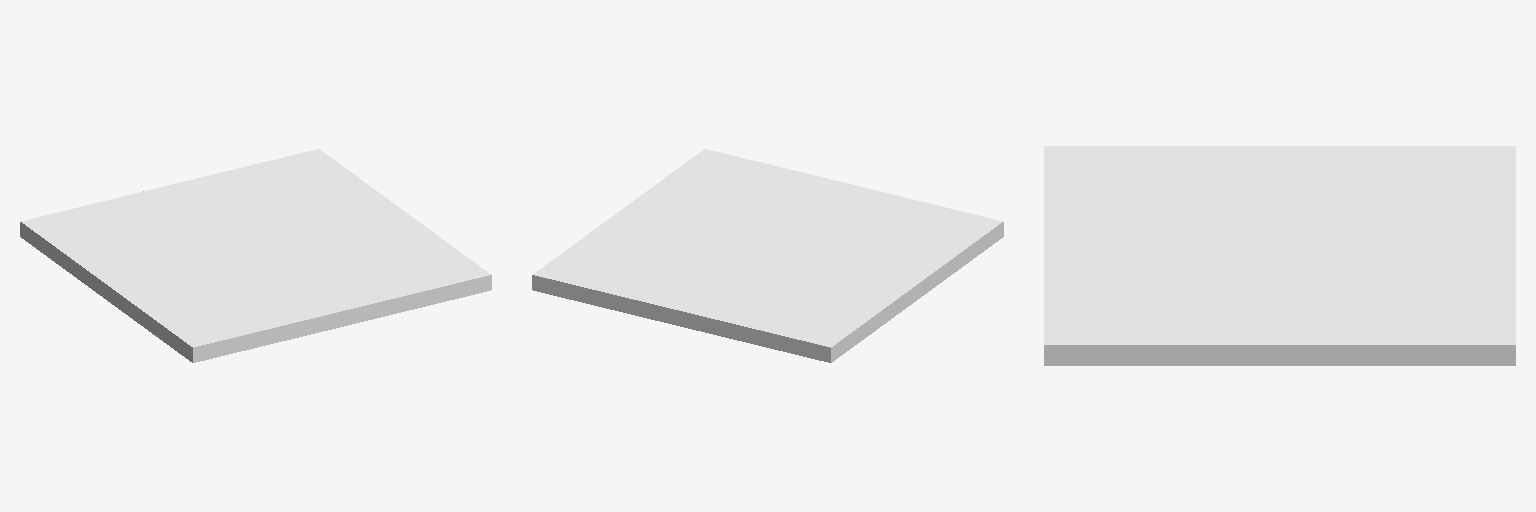
robot.urdf — qr_code:
<?xml version="1.0" ?>
<robot name="qr_code">

    <link name="base_link">
        <visual>
            <geometry>
                <box size="0.02 0.02 0.001"/>
            </geometry>
            <material name="white">
                <color rgba="1 1 1 1"/>
            </material>
        </visual>
    </link>

    <link name="qr_code_link">
        <visual>
            <geometry>
                <box size="0.02 0.02 0.001"/>
            </geometry>
            <material name="qr_code">
                <color rgba="0 0 0 1"/>
            </material>
        </visual>
    </link>

    <joint name="fixed_joint" type="fixed">
        <parent link="base_link"/>
        <child link="qr_code_link"/>
        <origin rpy="0 0 0" xyz="0 0 0"/>
    </joint>

</robot>

--- Render facts (derived) ---
Views: 3 orthographic renders of the robot side by side, from view 1: azimuth 30°, elevation 25°; view 2: azimuth 150°, elevation 25°; view 3: azimuth 270°, elevation 25°.
Model qr_code with 2 links and 1 joints (1 fixed), rooted at base_link, posed all joints at 0.
Visible links, largest first — view 1: base_link; view 2: base_link; view 3: base_link.
Link boxes in pixels (bbox=[...]): base_link: bbox=[20, 149, 491, 362]; base_link: bbox=[532, 149, 1003, 362]; base_link: bbox=[1044, 146, 1515, 365].
Size in the robot's own frame: 0.02 by 0.02 by 0.001 metres.
Geometry: primitives only (box / cylinder / sphere), no mesh files.
